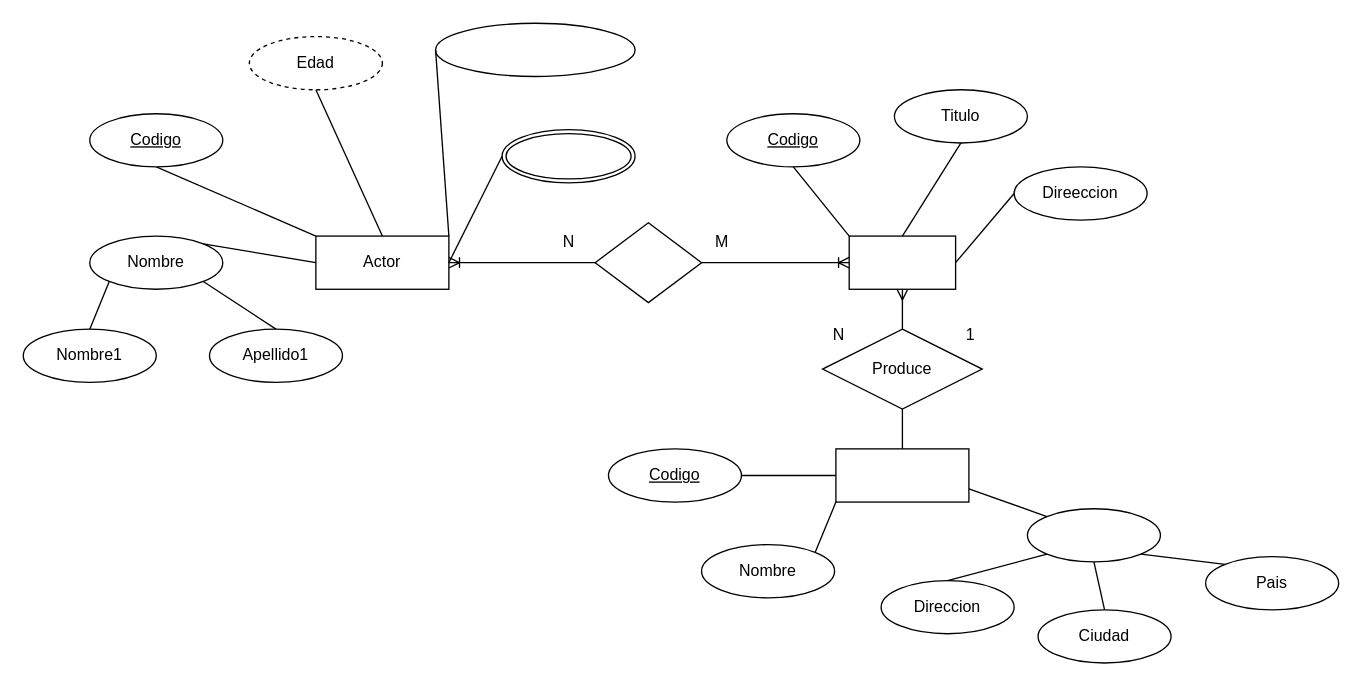
This 1362x686 diagram has some shape labels left out. The shapes that lost their labels are listed below. From the top down, each one's centre as x and y in pixels, then its label:
At (x=534, y=49): "FechaNacimiento".
At (x=568, y=155): "Telefono".
At (x=648, y=262): "Actua".
At (x=902, y=262): "Pelicula".
At (x=902, y=475): "Estudio".
At (x=1093, y=534): "Domicilio".
